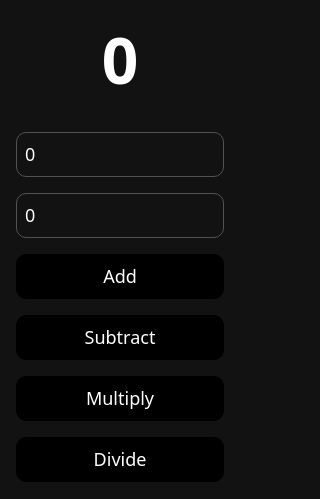
Test: Calculator › multiply to numbers
This screenshot has width=320, height=499.
Replace the text in the number field with test id "num1" with "10". click: (120, 154)
box: left=16, top=132, right=224, bottom=177
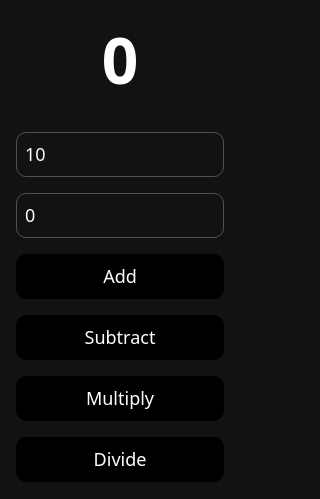
Replace the text in the number field with test id "num2" with "8". click: (120, 216)
box: left=16, top=193, right=224, bottom=238
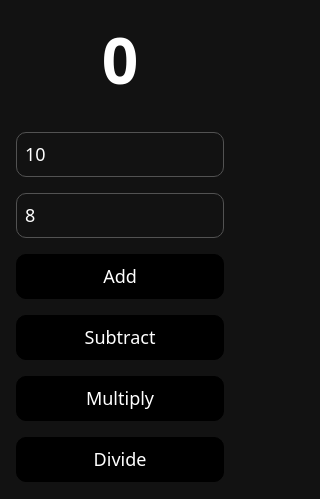
Click the button with test id "multiply". click: (120, 398)
box: left=16, top=376, right=224, bottom=421
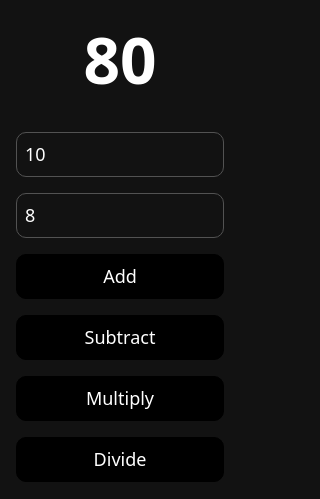
Expected: the text with test id "result" reads "80", left=83, top=16, right=157, bottom=103
